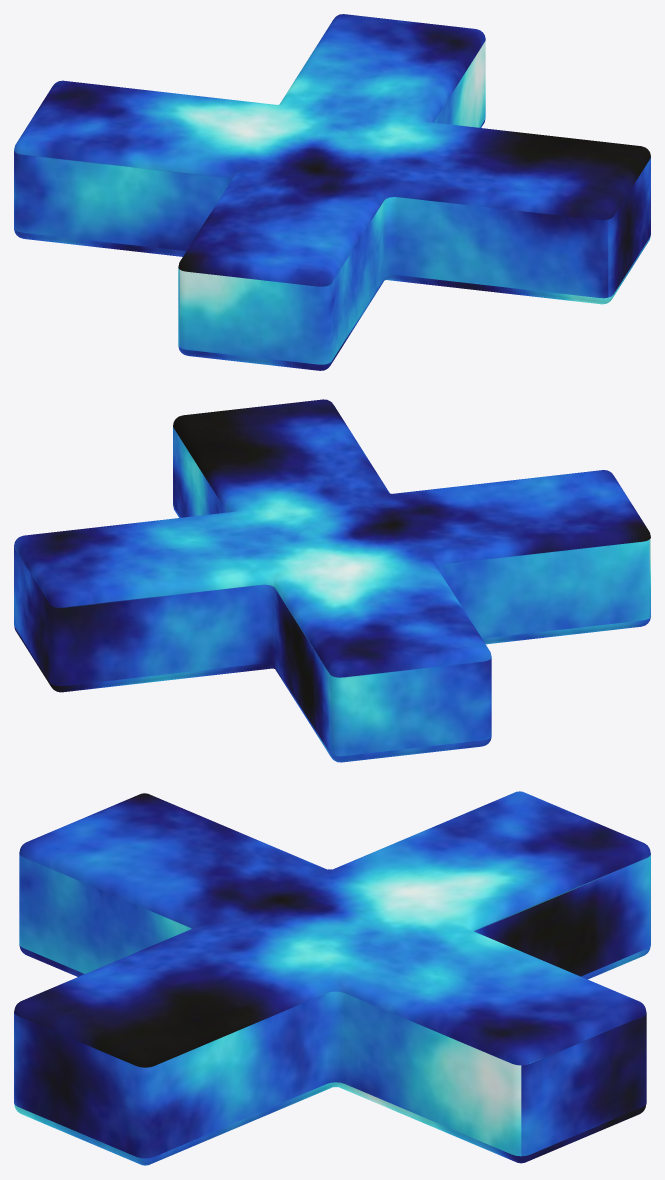
The model's file is Cross.glb.
3 renders of one model, top to bottom at view 1: azimuth 30°, elevation 25°; view 2: azimuth 150°, elevation 25°; view 3: azimuth 270°, elevation 25°, orthographic. The views are drawn at different scales.
Parts seen in each view (by area): view 1: Cross; view 2: Cross; view 3: Cross.
Part boxes in pixels (box(x1,y1,x2,y2)): Cross: box(14, 14, 650, 370); Cross: box(14, 399, 650, 762); Cross: box(14, 791, 650, 1165).
Bounding box in the file's own units: 2.54 × 0.5 × 2.54.
1 material, 1 textured.
